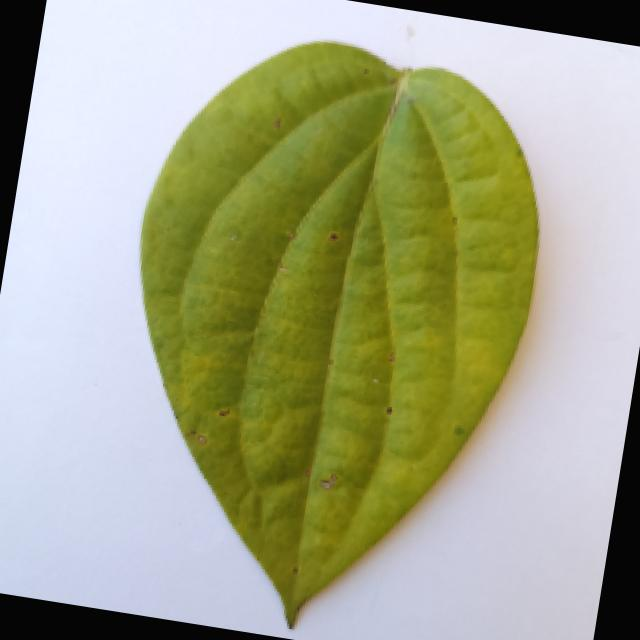slow-decline: (87, 17, 568, 640)
